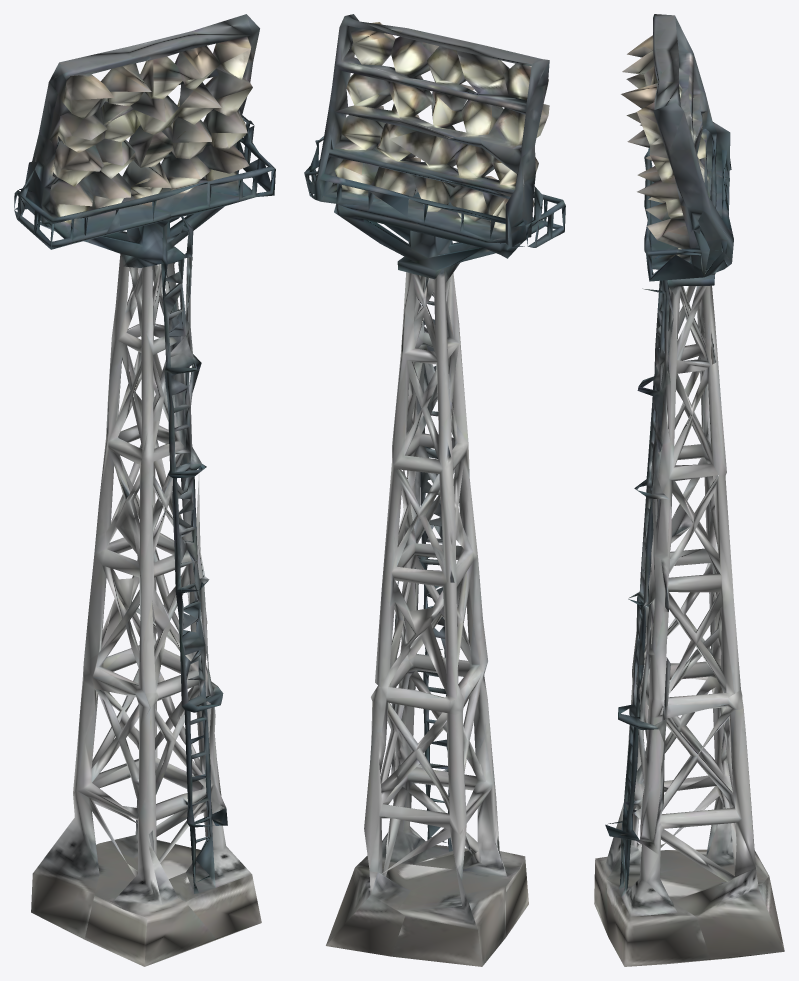
File: floodlight.glb
3 views of the same model, side by side, from view 1: azimuth 30°, elevation 25°; view 2: azimuth 150°, elevation 25°; view 3: azimuth 270°, elevation 25° (orthographic). The views are drawn at different scales.
Parts seen in each view (by area): view 1: floodlight; view 2: floodlight; view 3: floodlight.
Boxes of the visible parts, x1,y1,x2,y2 form: floodlight: (14, 14, 275, 966); floodlight: (304, 14, 565, 966); floodlight: (594, 14, 784, 966).
Size of the model in its own units: 8.69 by 31.97 by 6.35.
1 material, 1 textured.
